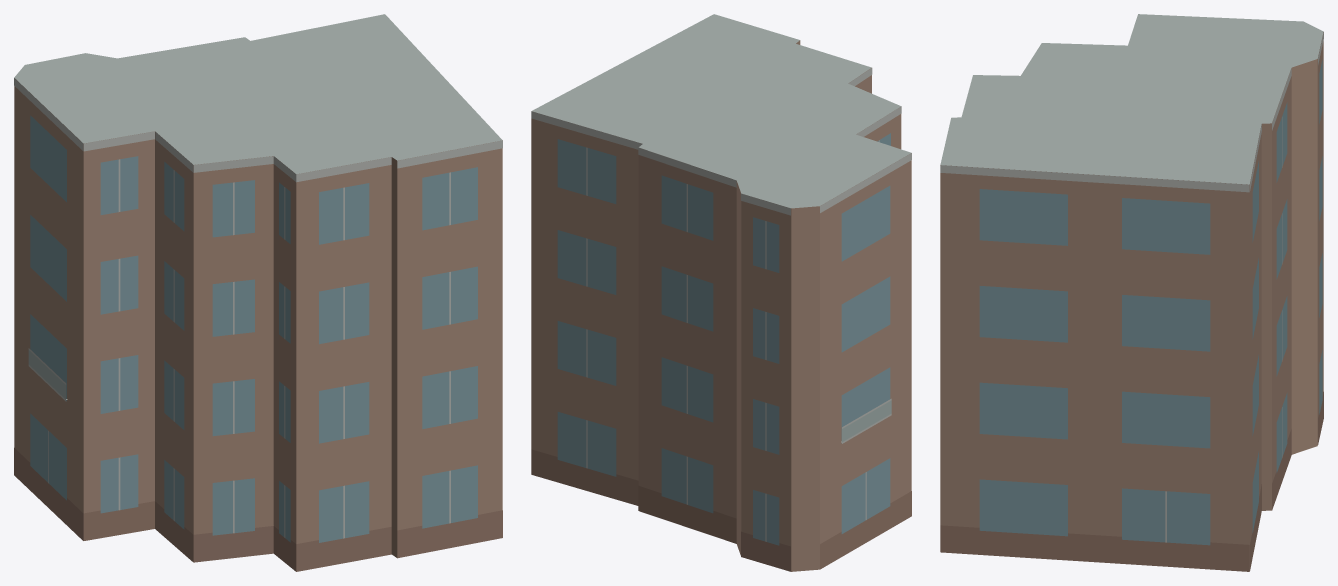
File: survey-upis-32827378.glb
3 renders of one model, left to right at view 1: azimuth 30°, elevation 25°; view 2: azimuth 150°, elevation 25°; view 3: azimuth 270°, elevation 25°, orthographic. The views are drawn at different scales.
Parts seen in each view (by area): view 1: survey-upis-32827378.tmp; view 2: survey-upis-32827378.tmp; view 3: survey-upis-32827378.tmp.
Boxes of the visible parts, x1,y1,x2,y2 form: survey-upis-32827378.tmp: (14,14,502,571); survey-upis-32827378.tmp: (531,14,911,571); survey-upis-32827378.tmp: (940,14,1323,571).
Bounding box in the file's own units: 11.49 × 12.15 × 10.91.
